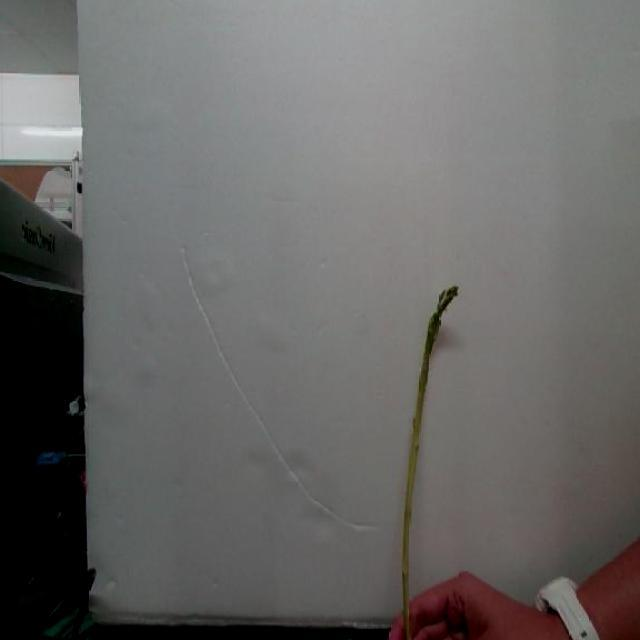aspargus: (395, 288, 460, 640)
